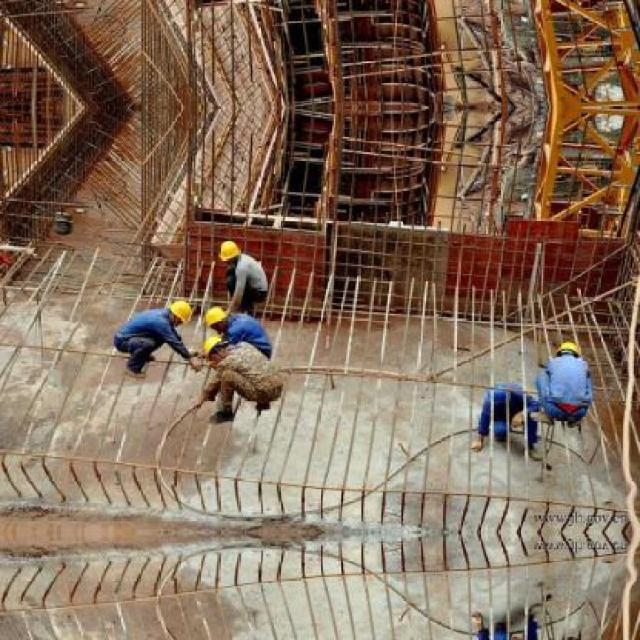helmet: (200, 302, 234, 328), (201, 332, 230, 360), (554, 334, 584, 361), (215, 233, 240, 262), (168, 294, 192, 324), (485, 378, 512, 400)
